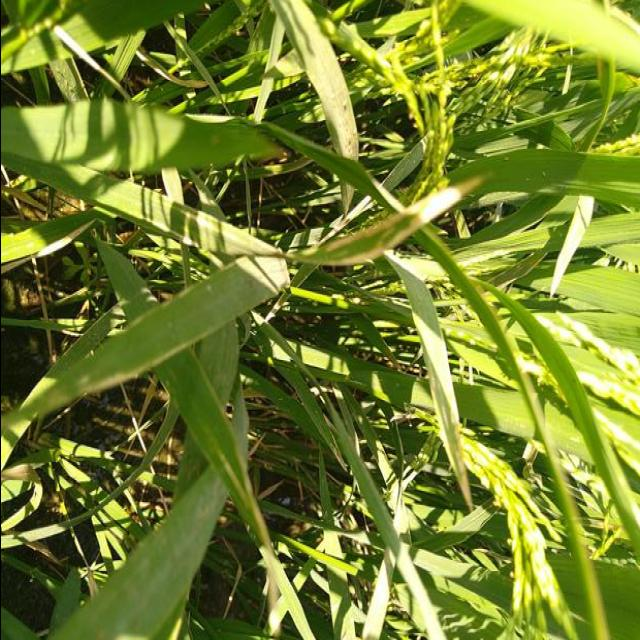Leaf Blight: (0, 312, 163, 469), (387, 259, 472, 513), (284, 172, 491, 266), (215, 444, 280, 634)
